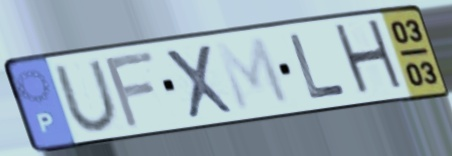F: (102, 47, 159, 132)
H: (329, 15, 410, 101)
L: (286, 31, 351, 103)
M: (211, 34, 295, 115)
U: (49, 56, 125, 134)
X: (160, 41, 240, 122)
